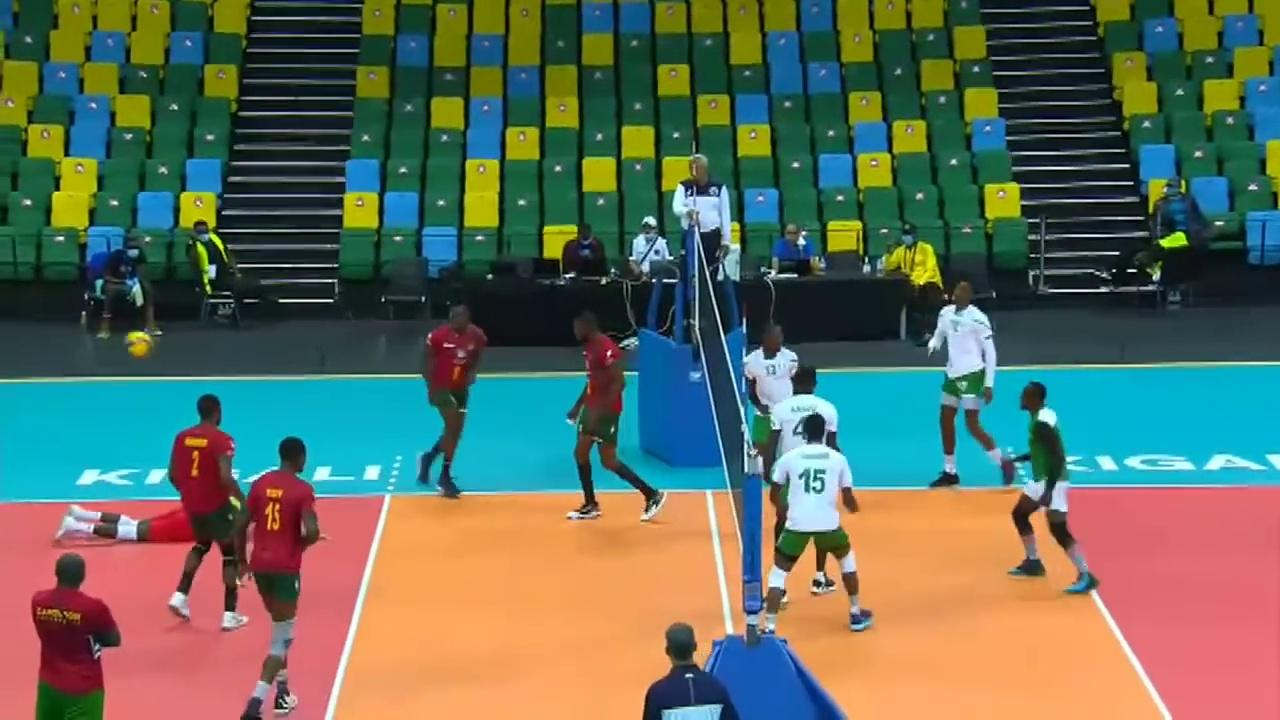player: (234, 432, 328, 720), (763, 400, 876, 636), (560, 305, 668, 527), (1003, 376, 1100, 592), (164, 392, 249, 637), (922, 276, 1010, 490), (50, 488, 327, 554), (768, 363, 840, 604), (413, 301, 491, 500), (744, 316, 809, 526)
refree: (628, 618, 746, 720), (676, 149, 739, 325)
